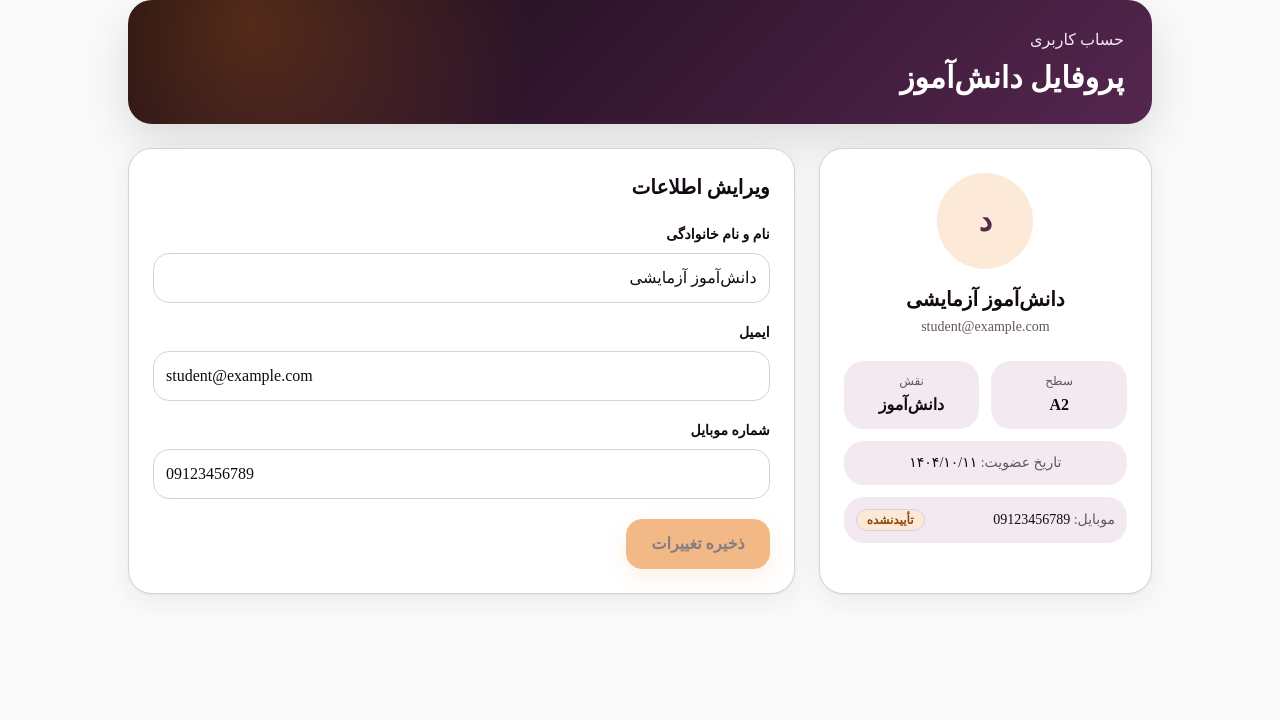
Test: ProfilePage editing › asks for the current password before changing the email
Replace the text in the field labelled "ایمیل" with "new@example.com": (461, 376) [153,351,770,401]
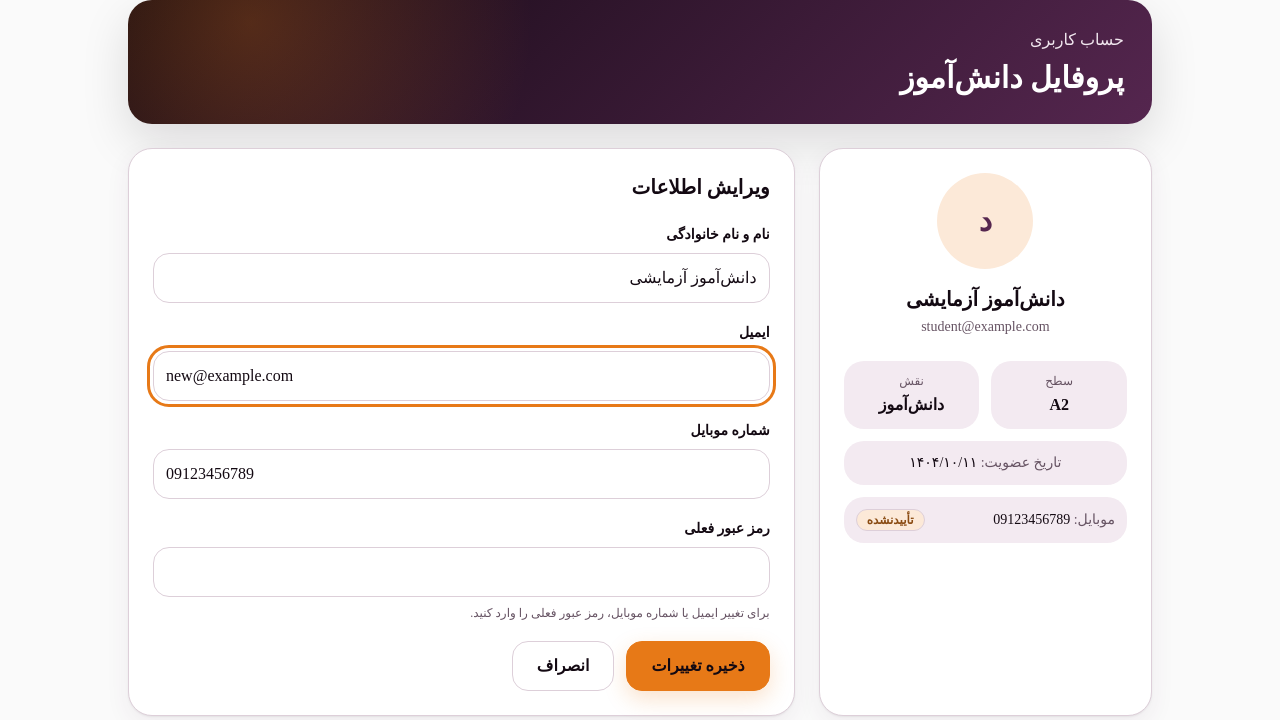
Click the button "ذخیره تغییرات": click(698, 666) [626,641,770,691]
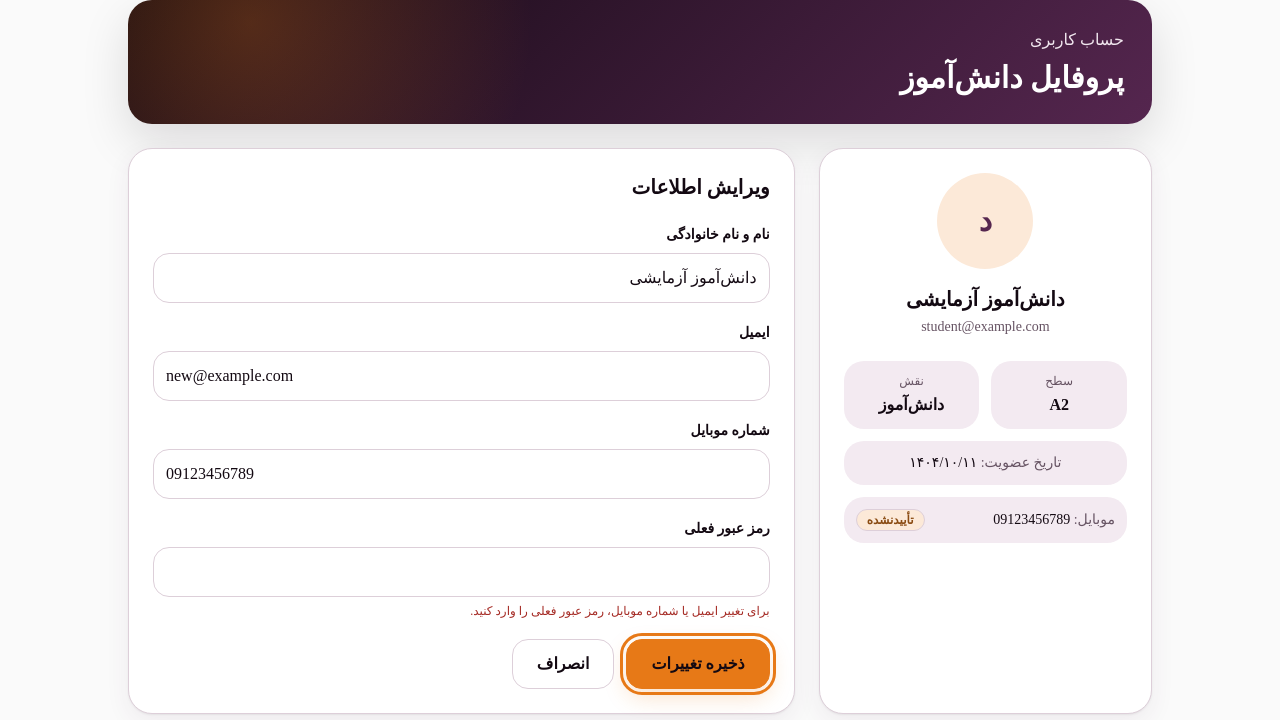
In the password field labelled "رمز عبور فعلی": (461, 572) [153,547,770,597], type "secret-password"
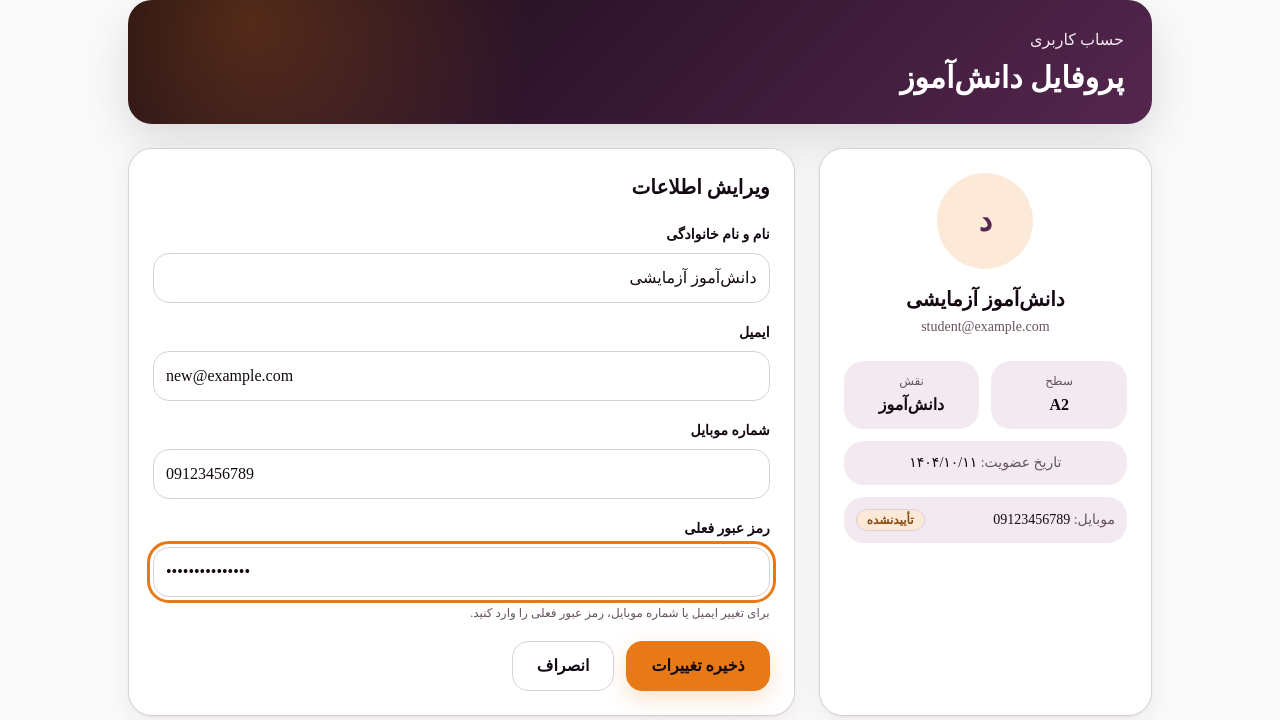
Click the button "ذخیره تغییرات": click(698, 666) [626,641,770,691]
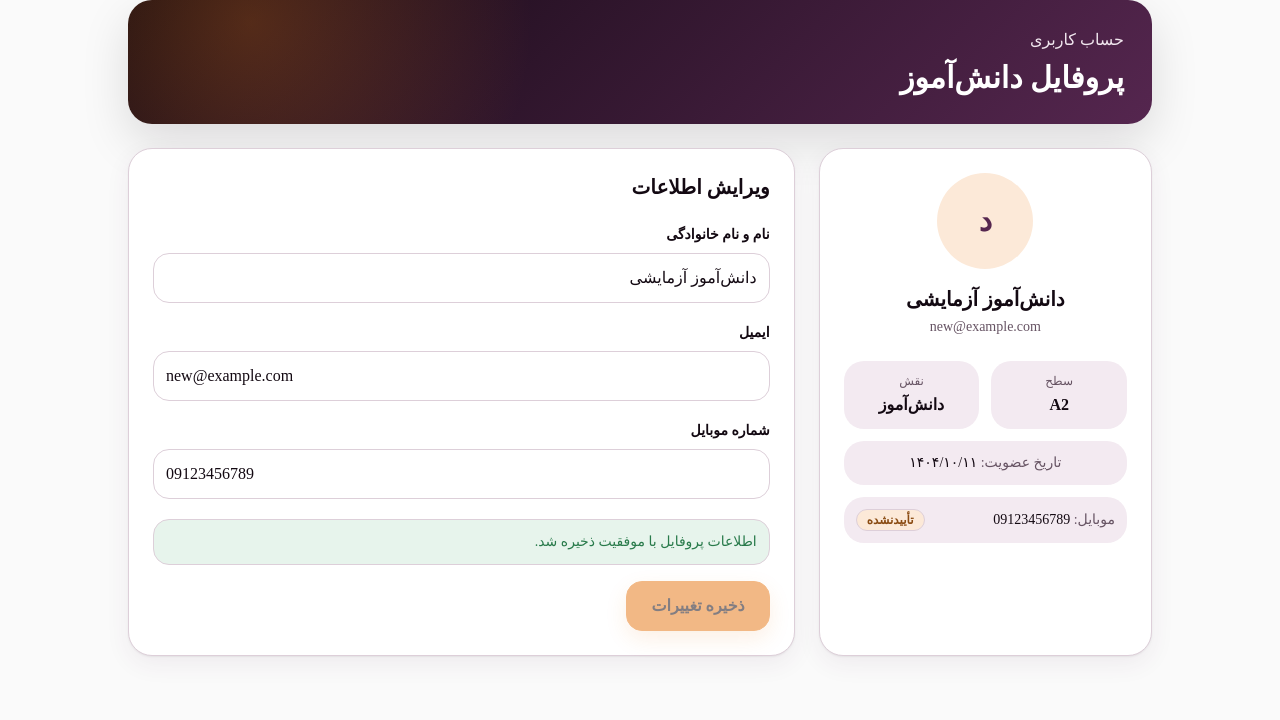
Expected: the text "اطلاعات پروفایل با موفقیت ذخیره شد." is shown, [153,519,770,565]
Expected: the label labelled "رمز عبور فعلی" is gone
